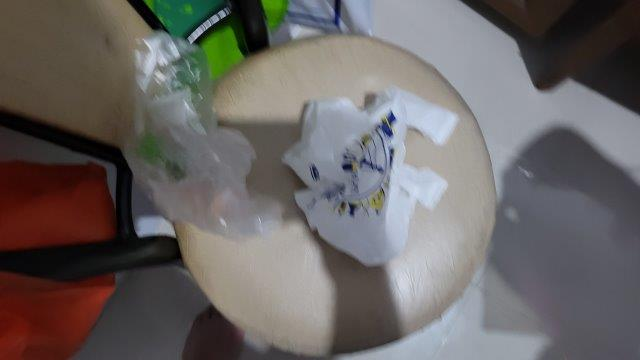plastik: (118, 31, 278, 235), (283, 84, 459, 266)
